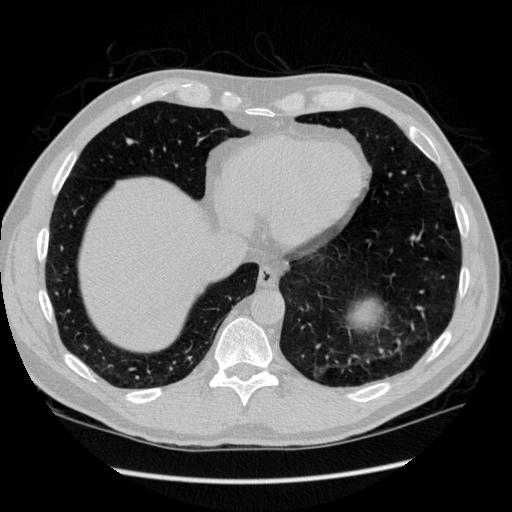nodule: (123, 135, 136, 148)
